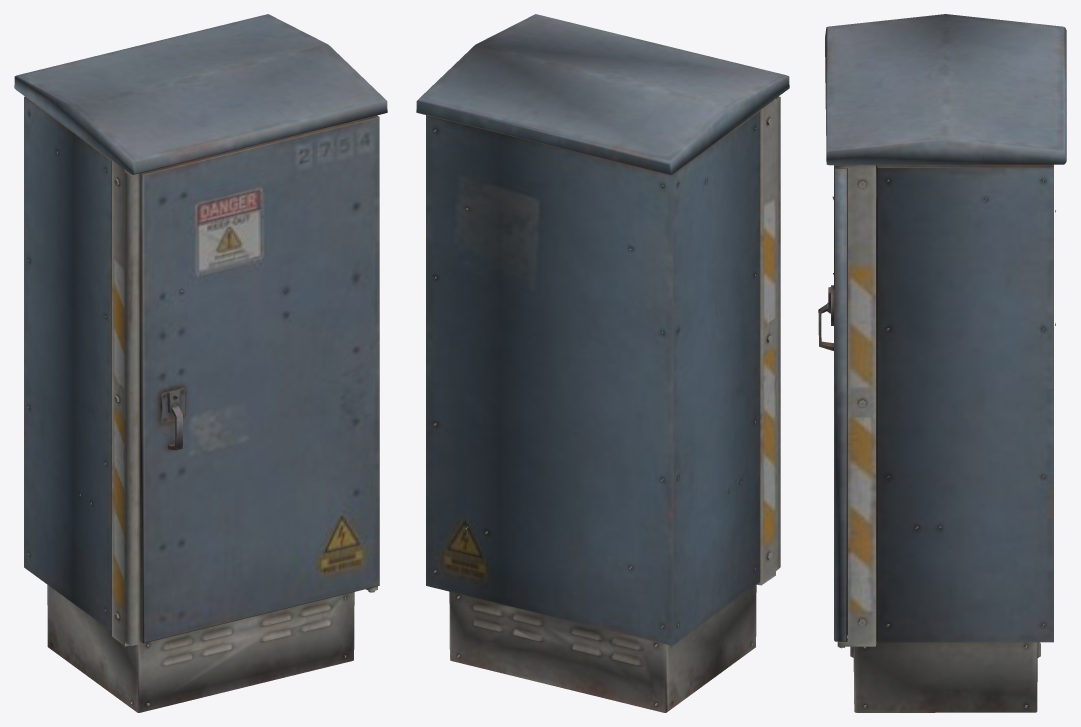
File: stromkasten.glb
The picture shows the model from 3 angles, left to right: view 1: azimuth 30°, elevation 25°; view 2: azimuth 150°, elevation 25°; view 3: azimuth 270°, elevation 25°; orthographic projection.
Visible parts, largest first — view 1: utility_box_01_box; view 2: utility_box_01_box; view 3: utility_box_01_box.
Boxes of the visible parts, bbox=[...] form: utility_box_01_box: bbox=[14, 14, 387, 712]; utility_box_01_box: bbox=[416, 14, 789, 712]; utility_box_01_box: bbox=[818, 14, 1066, 712].
Size of the model in its own units: 0.5164 by 1.12 by 0.4312.
Materials: 1 (1 with a texture image).
